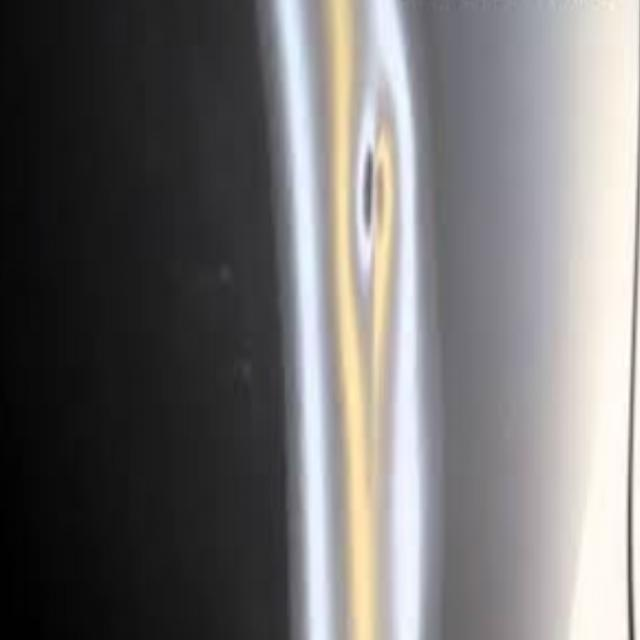dents: (331, 90, 423, 250)
